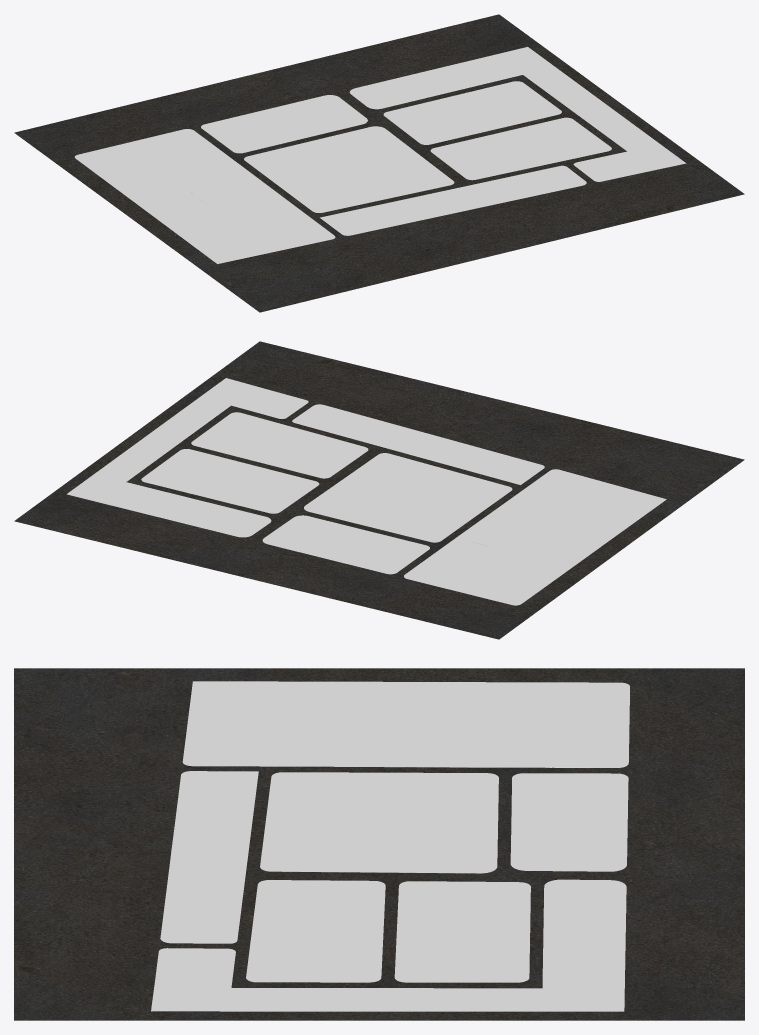
File: map.glb
3 renders of one model, top to bottom at view 1: azimuth 30°, elevation 25°; view 2: azimuth 150°, elevation 25°; view 3: azimuth 270°, elevation 25°, orthographic. The views are drawn at different scales.
Parts seen in each view (by area): view 1: Plane, Lot_089, Lot_0095, Lot_097, Lot_096, Lot_043, Lot_031, Lot_094, Lot_087, Lot_086, Lot_085, Lot_084 (+6 smaller); view 2: Plane, Lot_089, Lot_0095, Lot_097, Lot_096, Lot_043, Lot_031, Lot_094, Lot_085, Lot_084, Lot_087, Lot_086 (+6 smaller); view 3: Plane, Lot_089, Lot_0095, Lot_097, Lot_096, Lot_043, Lot_031, Lot_087, Lot_085, Lot_094, Lot_084, Lot_086 (+66 smaller).
Part boxes in pixels (x1,y1,x2,y2): Plane: (14,14,744,312); Lot_089: (244,126,454,212); Lot_0095: (74,129,242,216); Lot_097: (153,188,335,263); Lot_096: (189,167,270,203); Lot_043: (617,144,686,172); Lot_031: (506,55,563,80); Lot_094: (320,211,375,235); Lot_087: (236,121,290,148); Lot_086: (263,114,317,141); Lot_085: (290,108,344,134); Lot_084: (317,101,367,128); Plane: (14,341,744,639); Lot_089: (304,453,512,542); Lot_0095: (404,534,600,605); Lot_097: (485,469,666,546); Lot_096: (456,517,548,547); Lot_043: (200,378,267,408); Lot_031: (77,468,134,494); Lot_094: (491,458,544,484); Lot_085: (298,520,352,547); Lot_084: (270,515,325,540); Lot_087: (351,533,405,560); Lot_086: (324,527,378,553); Plane: (14,668,744,1020); Lot_089: (260,772,498,873); Lot_0095: (384,682,629,767); Lot_097: (182,681,386,766); Lot_096: (384,719,468,767); Lot_043: (151,979,232,1011); Lot_031: (517,988,592,1011); Lot_087: (511,792,595,812); Lot_085: (511,831,594,851); Lot_094: (179,771,258,793); Lot_084: (510,851,594,871); Lot_086: (511,812,594,831).
Bounding box in the file's own units: 1006 × 0.25 × 882.
Materials: 1 (1 with a texture image).
